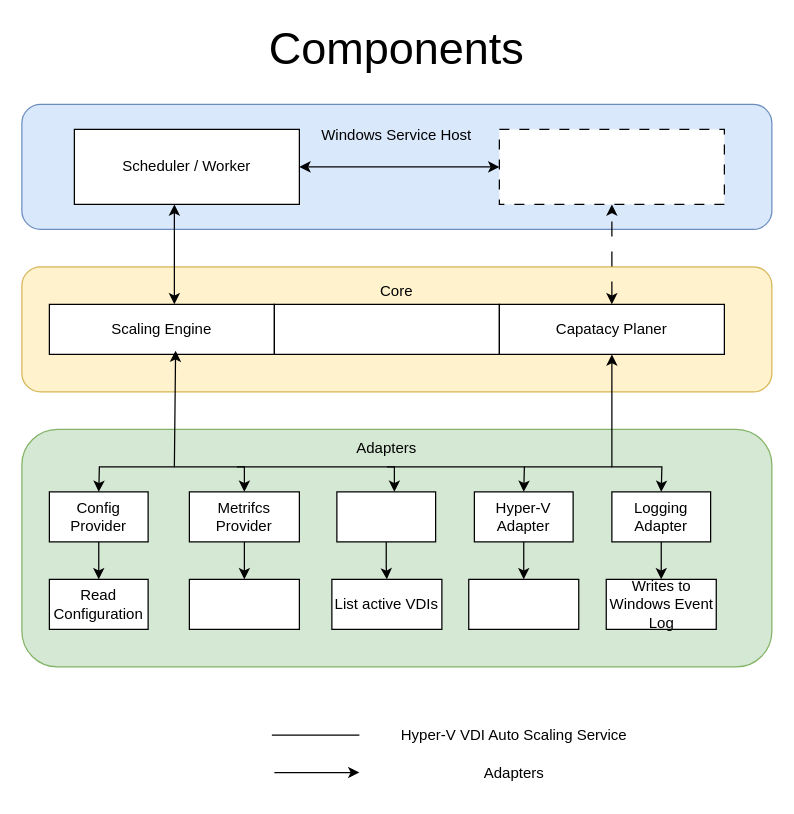
Image size: 794x814. Some labels were removed from this diagram. Each missing label, with the centre of its shape:
Create / Delete / Start / Stop VMs: the point at 523,603
Fetch sessions Load metrics: the point at 243,603
Inventory Provider: the point at 386,516
Leader Election (optional): the point at 611,166
Policy Evaluator: the point at 386,328
